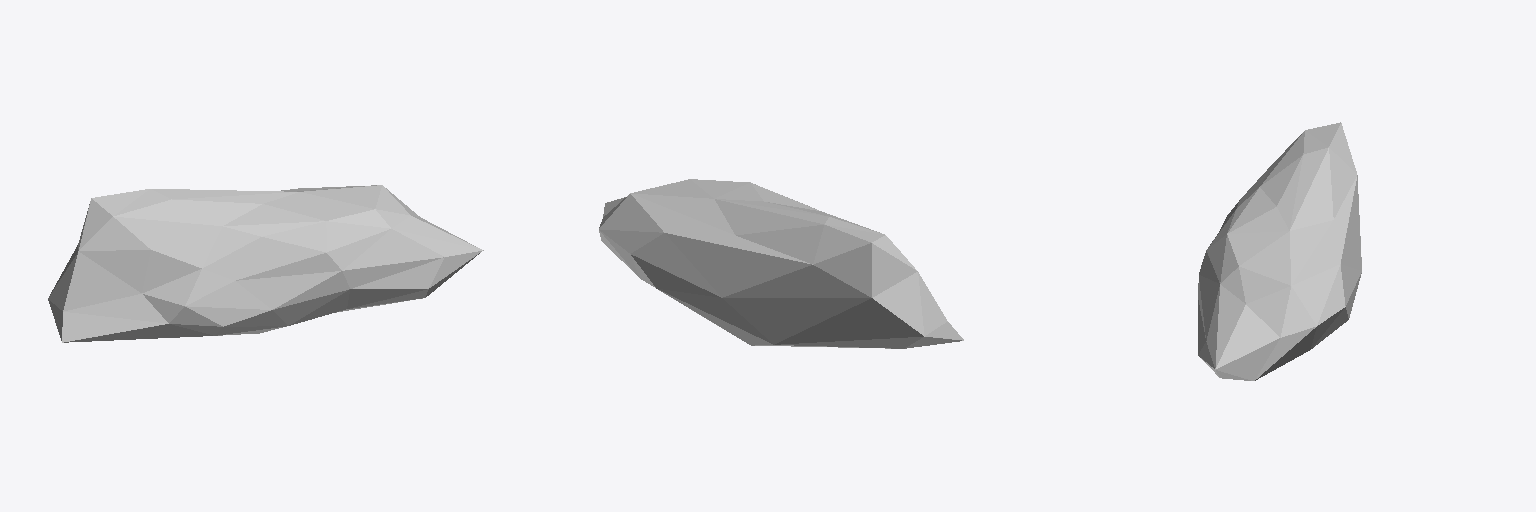
Rendered from Cloud7.obj.
3 renders of one model, left to right at view 1: azimuth 30°, elevation 25°; view 2: azimuth 150°, elevation 25°; view 3: azimuth 270°, elevation 25°, orthographic.
Visible parts, largest first — view 1: Cloud7_Object_94_Object_45.001; view 2: Cloud7_Object_94_Object_45.001; view 3: Cloud7_Object_94_Object_45.001.
Boxes of the visible parts, box(x1,y1,x2,y2) form: Cloud7_Object_94_Object_45.001: box(48, 185, 483, 342); Cloud7_Object_94_Object_45.001: box(599, 179, 963, 348); Cloud7_Object_94_Object_45.001: box(1198, 122, 1361, 380).
Bounding box in the file's own units: 1.97 × 0.6675 × 0.7186.